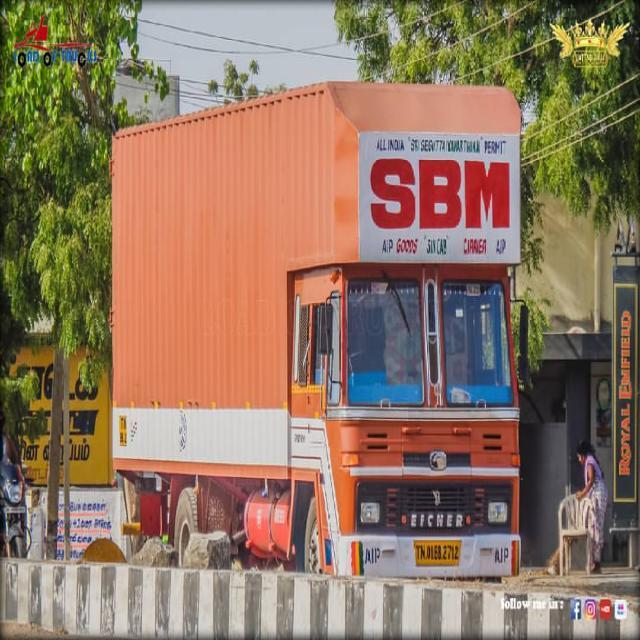Truck: (108, 77, 531, 594)
